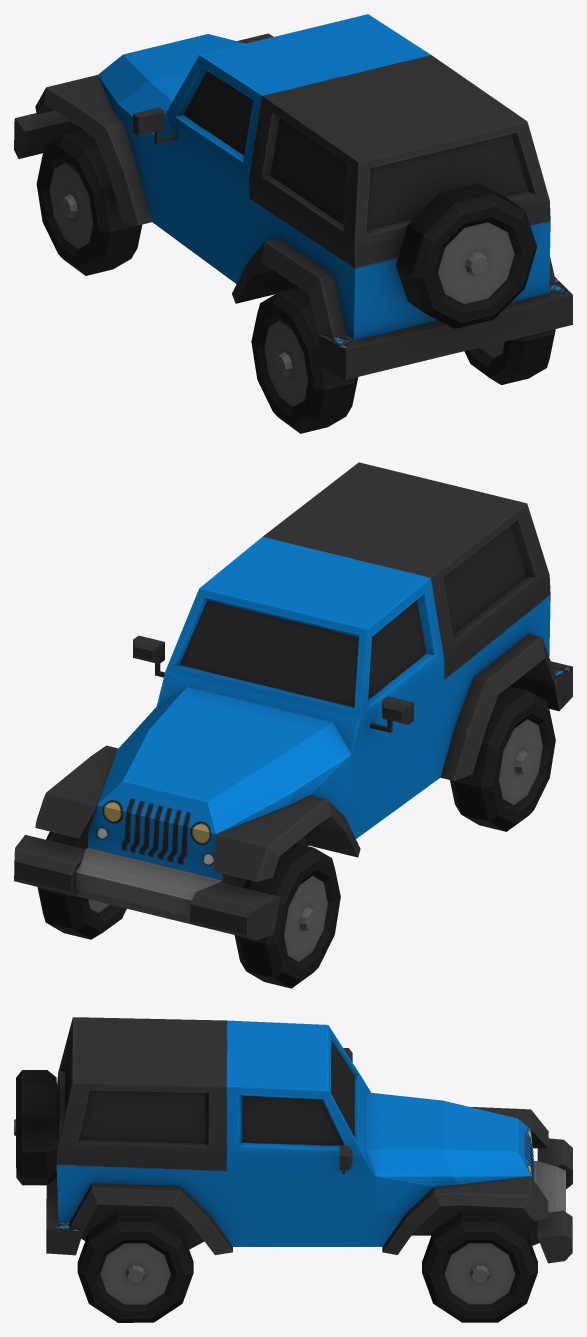
Rendered from car_truck.gltf.
3 renders of one model, top to bottom at view 1: azimuth 30°, elevation 25°; view 2: azimuth 150°, elevation 25°; view 3: azimuth 270°, elevation 25°, orthographic. The views are drawn at different scales.
Visible parts, largest first — view 1: Jeep_mesh; view 2: Jeep_mesh; view 3: Jeep_mesh.
Boxes of the visible parts, x1,y1,x2,y2 form: Jeep_mesh: (14, 14, 572, 433); Jeep_mesh: (14, 462, 572, 988); Jeep_mesh: (14, 1017, 572, 1322).
Bounding box in the file's own units: 3.58 × 3.53 × 7.85.
Materials: 1 (1 with a texture image).
